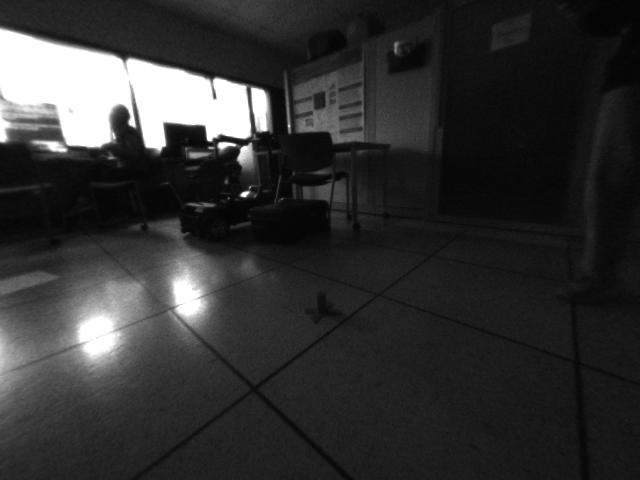x: (302, 291, 343, 328)
